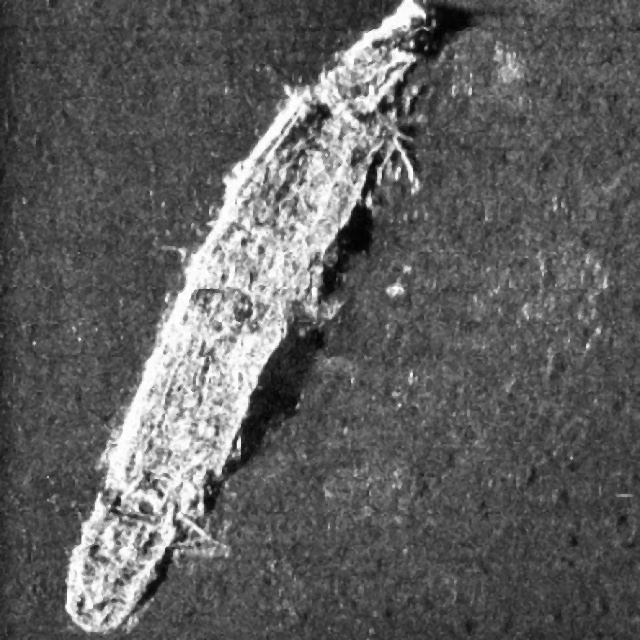Ship: (61, 3, 441, 640)
